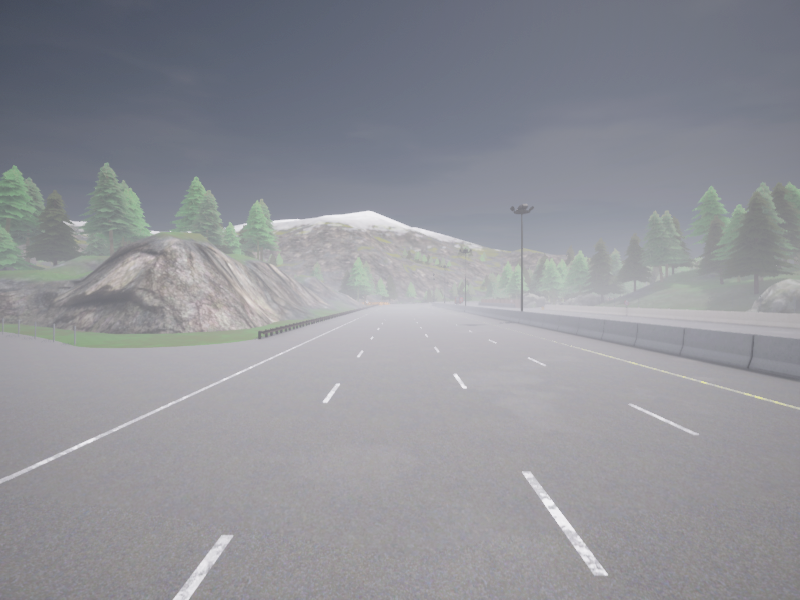vehicle: (455, 296, 463, 303)
